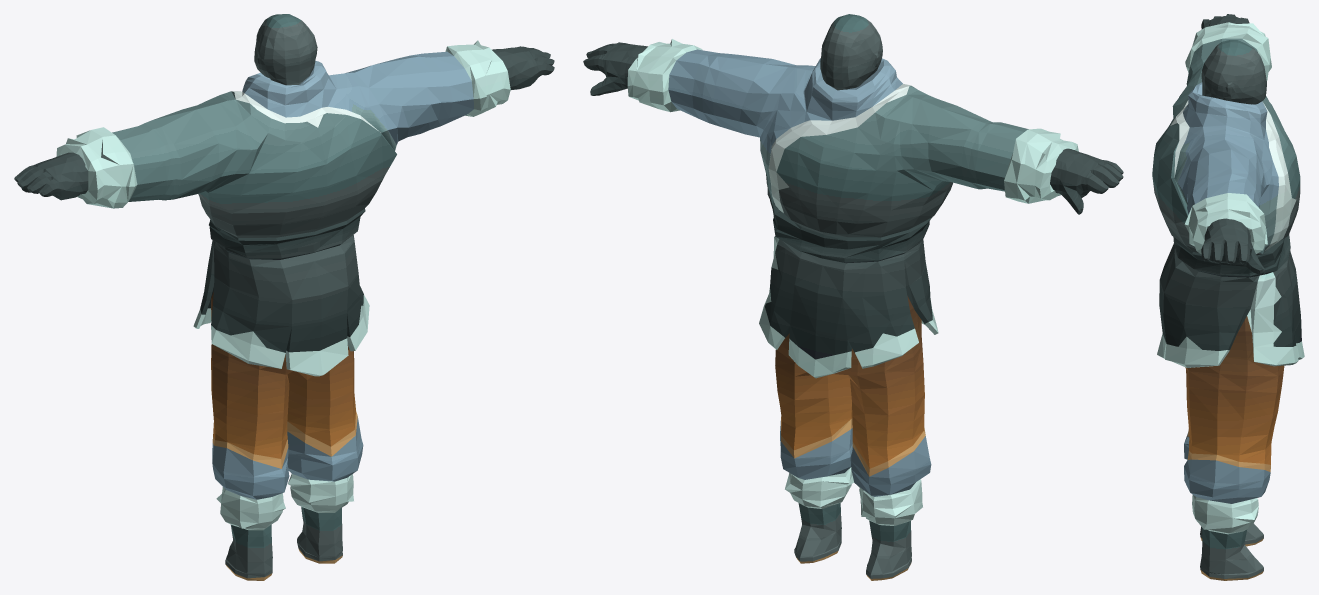
File: CharSkyNPC_Body_AP12DarkTunic_01.glb
3 renders of one model, left to right at view 1: azimuth 30°, elevation 25°; view 2: azimuth 150°, elevation 25°; view 3: azimuth 270°, elevation 25°, orthographic. The views are drawn at different scales.
Visible parts, largest first — view 1: CharSkyNPC_Body_AP12DarkTunic_01; view 2: CharSkyNPC_Body_AP12DarkTunic_01; view 3: CharSkyNPC_Body_AP12DarkTunic_01.
Part boxes in pixels (x1,y1,x2,y2): CharSkyNPC_Body_AP12DarkTunic_01: [14, 14, 554, 580]; CharSkyNPC_Body_AP12DarkTunic_01: [583, 14, 1123, 580]; CharSkyNPC_Body_AP12DarkTunic_01: [1152, 14, 1304, 580].
Bounding box in the file's own units: 14.05 × 13.74 × 3.69.
Materials: 1 (1 with a texture image).
